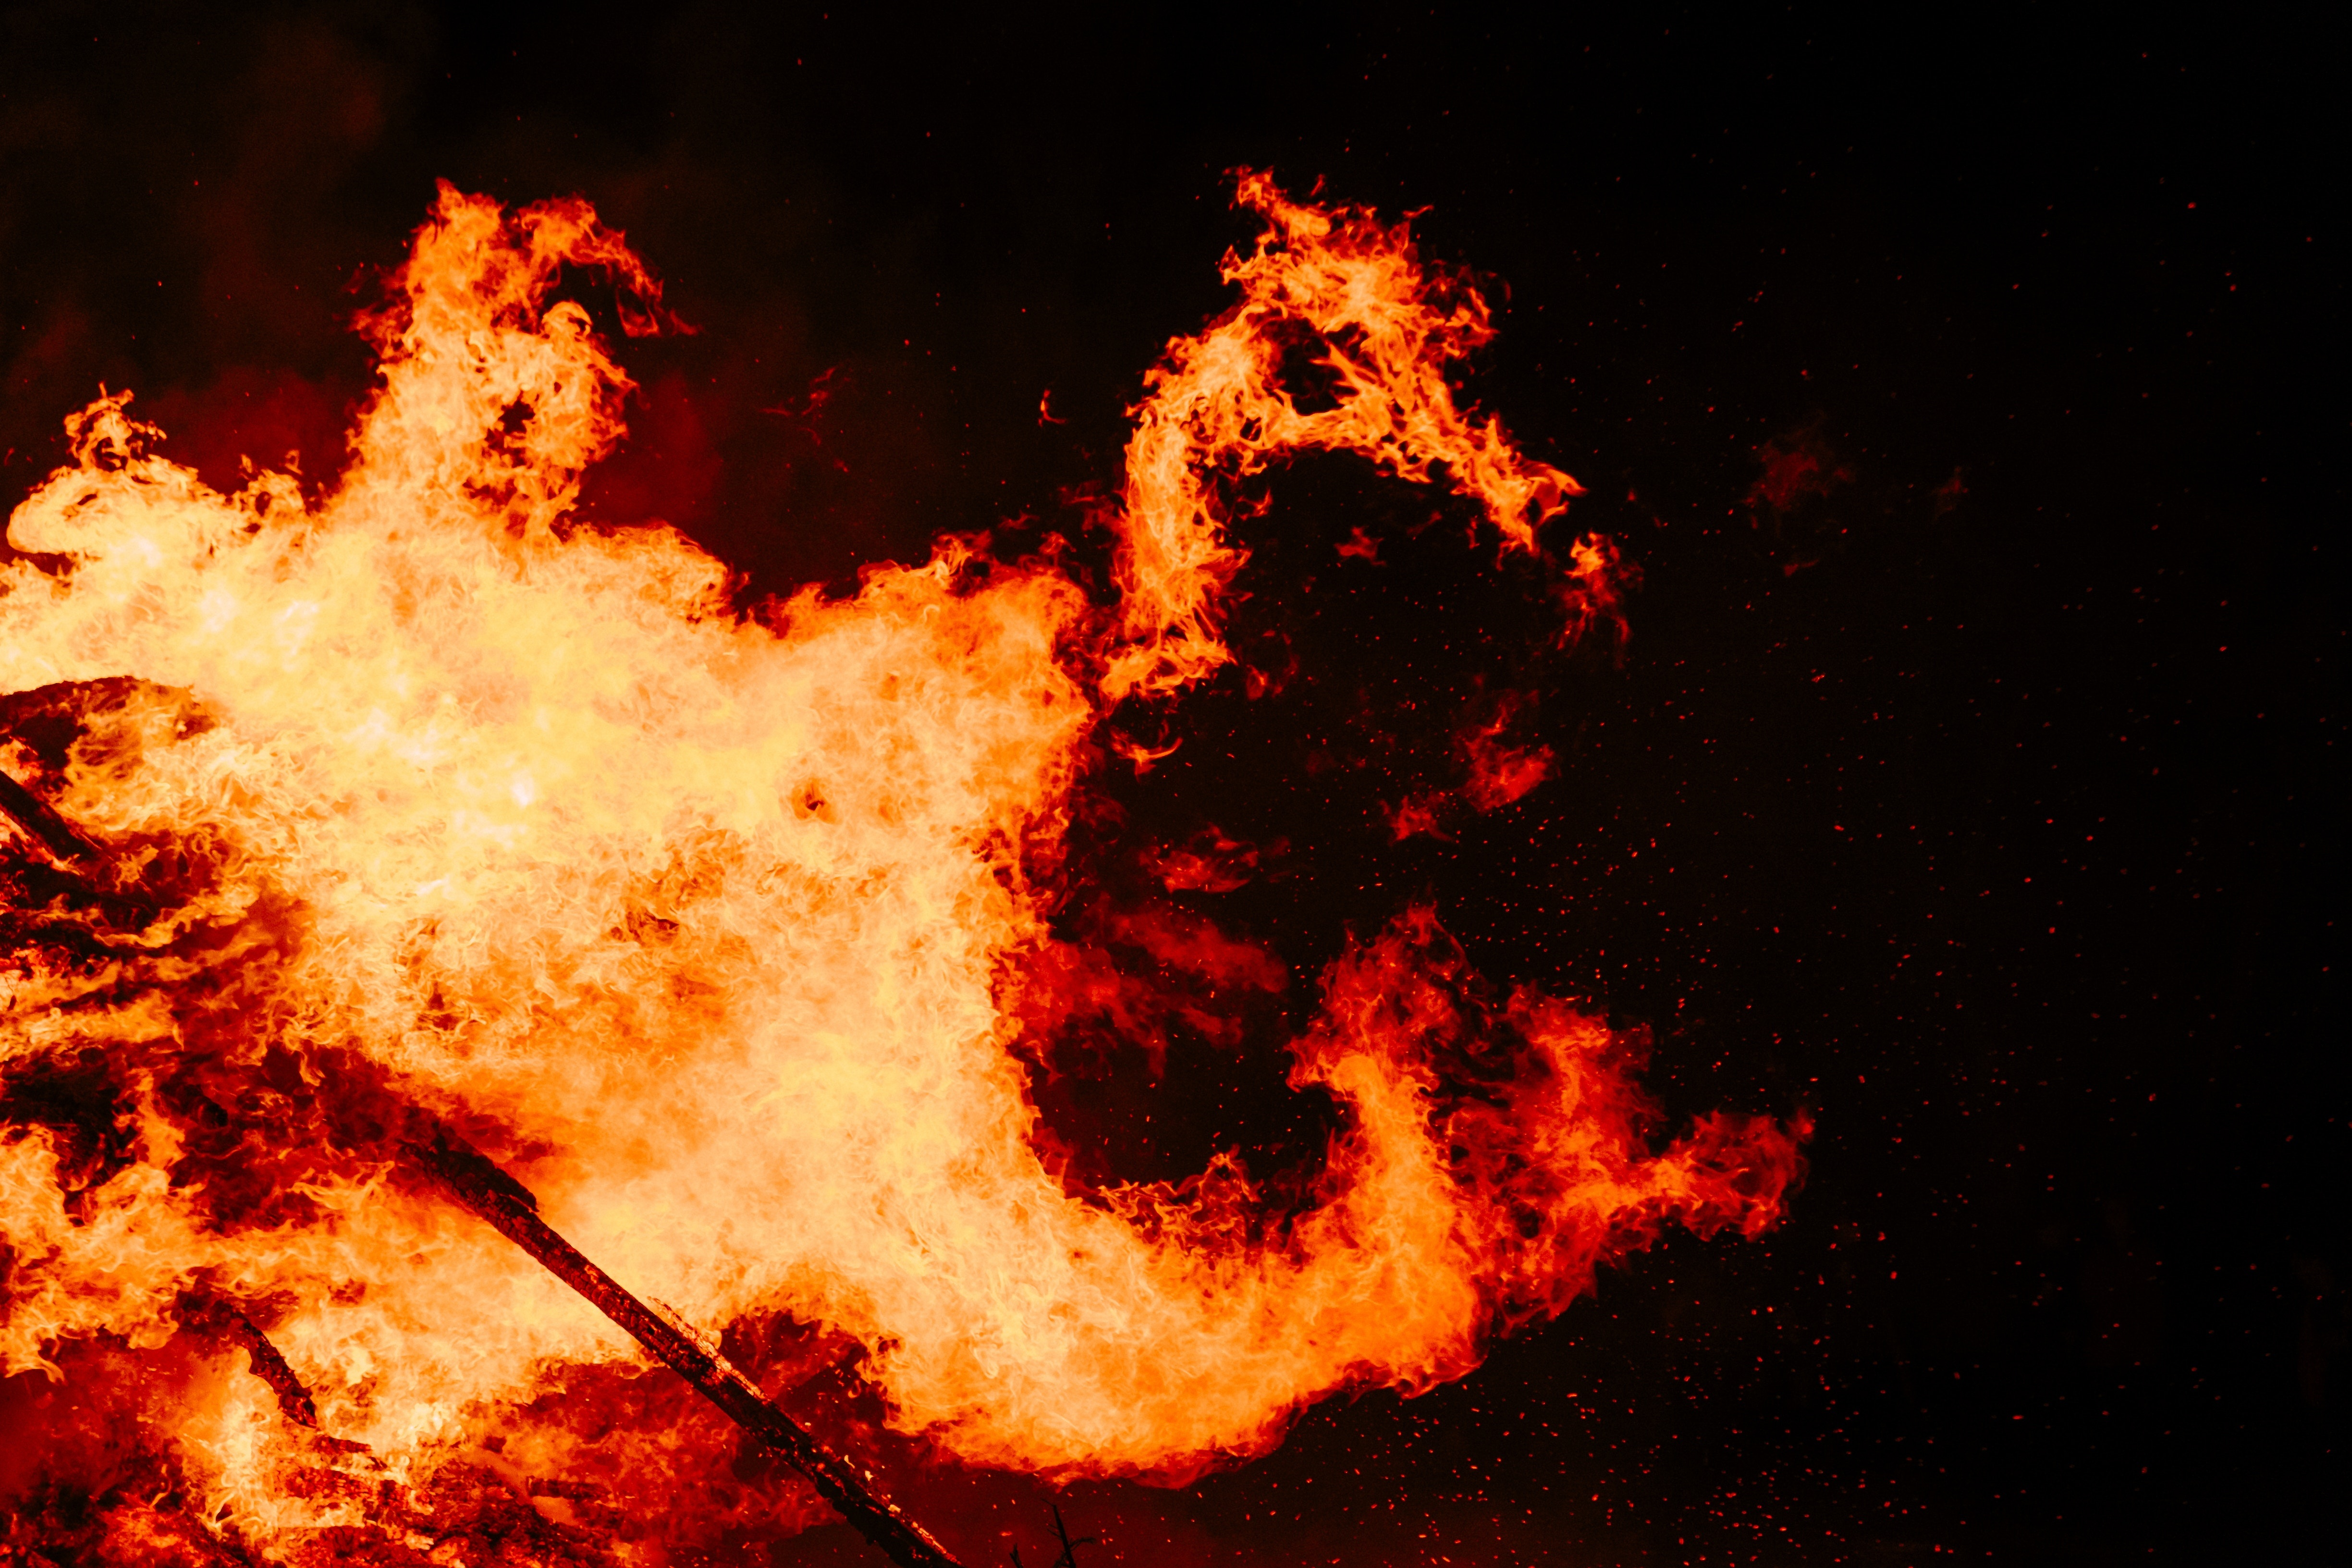fire: (30, 143, 1767, 1540)
